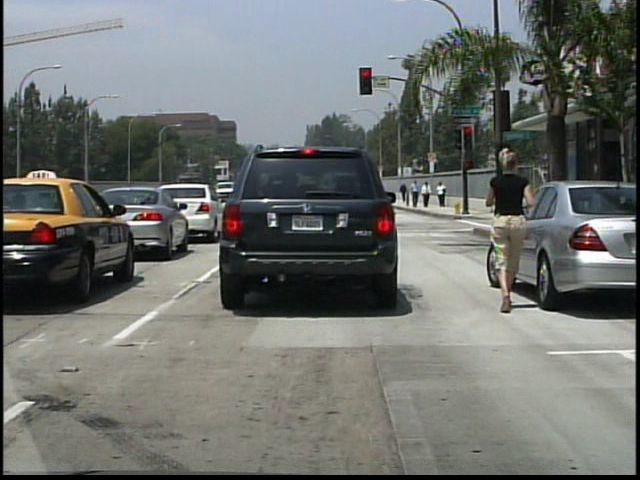person: (487, 135, 539, 313), (437, 179, 448, 206), (411, 179, 421, 208), (423, 179, 432, 207), (400, 181, 408, 202)
